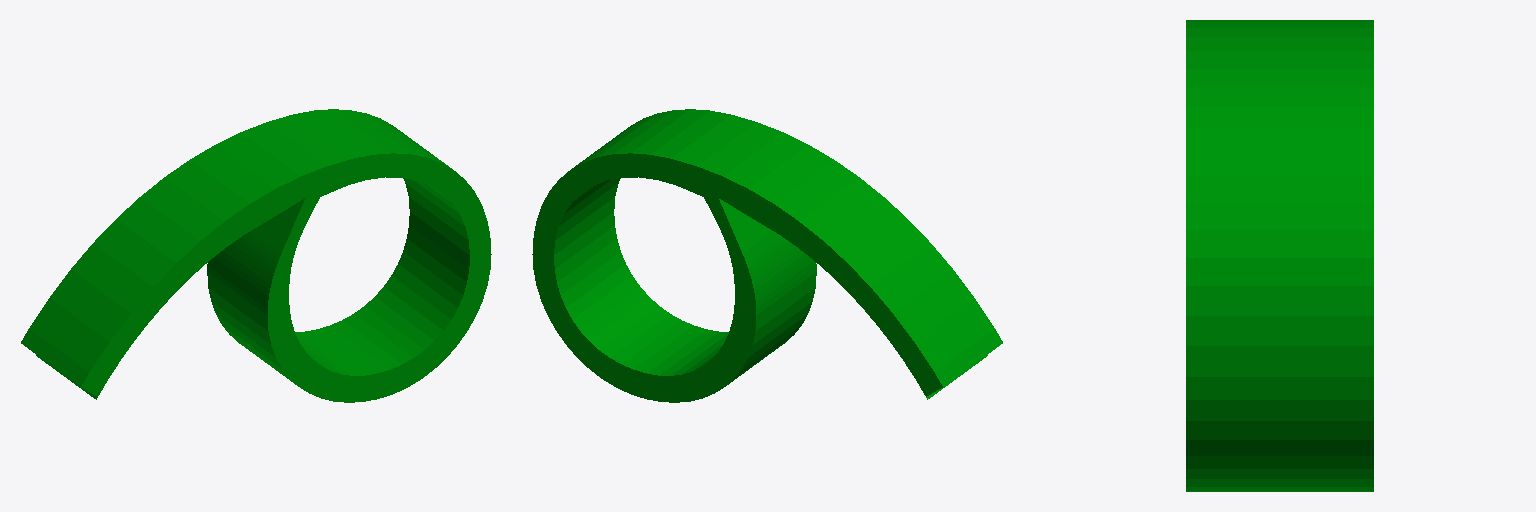
URDF robot description (ring):
<?xml version="0.0" ?>
<robot name="ring">
    <material name="green">
        <color rgba="0.005953 0.613846 0.061735 1"/>
    </material>

    <link name="baseLink">
        <!-- from lego/lego.urdf -->
        <contact>
            <lateral_friction value="1.0"/>
            <rolling_friction value="0.0"/>
            <contact_cfm value="0.0"/>
            <contact_erp value="1.0"/>
        </contact>
        <inertial>
            <origin rpy="0 0 0" xyz="0 0 0"/>
            <mass value="0.5"/>
            <inertia ixx="1" ixy="0" ixz="0" iyy="1" iyz="0" izz="1"/>
        </inertial>
        <visual>
            <origin rpy="0 0 0" xyz="0 0 0"/>
            <geometry>
                <!--        radius: 10mm, depth: 14.5mm-->
                <mesh filename="meshes/6.obj" scale="1 1 1"/>
                <!--        <box size="0.002 0.002 0.002"/>-->
            </geometry>
            <material name="green"/>
        </visual>
        <collision>
            <origin rpy="0 0 0" xyz="0 0 0"/>
            <geometry>
                <mesh filename="meshes/6_vhacd.obj" scale="1 1 1"/>
                       <!-- <box size="0.002 0.002 0.002"/> -->
            </geometry>
        </collision>
    </link>

</robot>

--- What the picture shows (computed from the rendered views, not written in the file) ---
3 views of the same robot in one strip: view 1: azimuth 30°, elevation 25°; view 2: azimuth 150°, elevation 25°; view 3: azimuth 270°, elevation 25° (orthographic).
Robot: ring — 1 links, 0 joints (none); root link baseLink; default pose: all joints at 0.
Links seen in each view (by area): view 1: baseLink; view 2: baseLink; view 3: baseLink.
Boxes of the visible links, bbox=[...] form: baseLink: bbox=[21, 109, 491, 402]; baseLink: bbox=[532, 109, 1002, 402]; baseLink: bbox=[1186, 20, 1373, 491].
Bounding box of the posed robot: 2.52 × 0.64 × 1.44 m (x, y, z).
Meshes: 1 distinct files referenced, 1 mesh visuals loaded (1 OBJ).